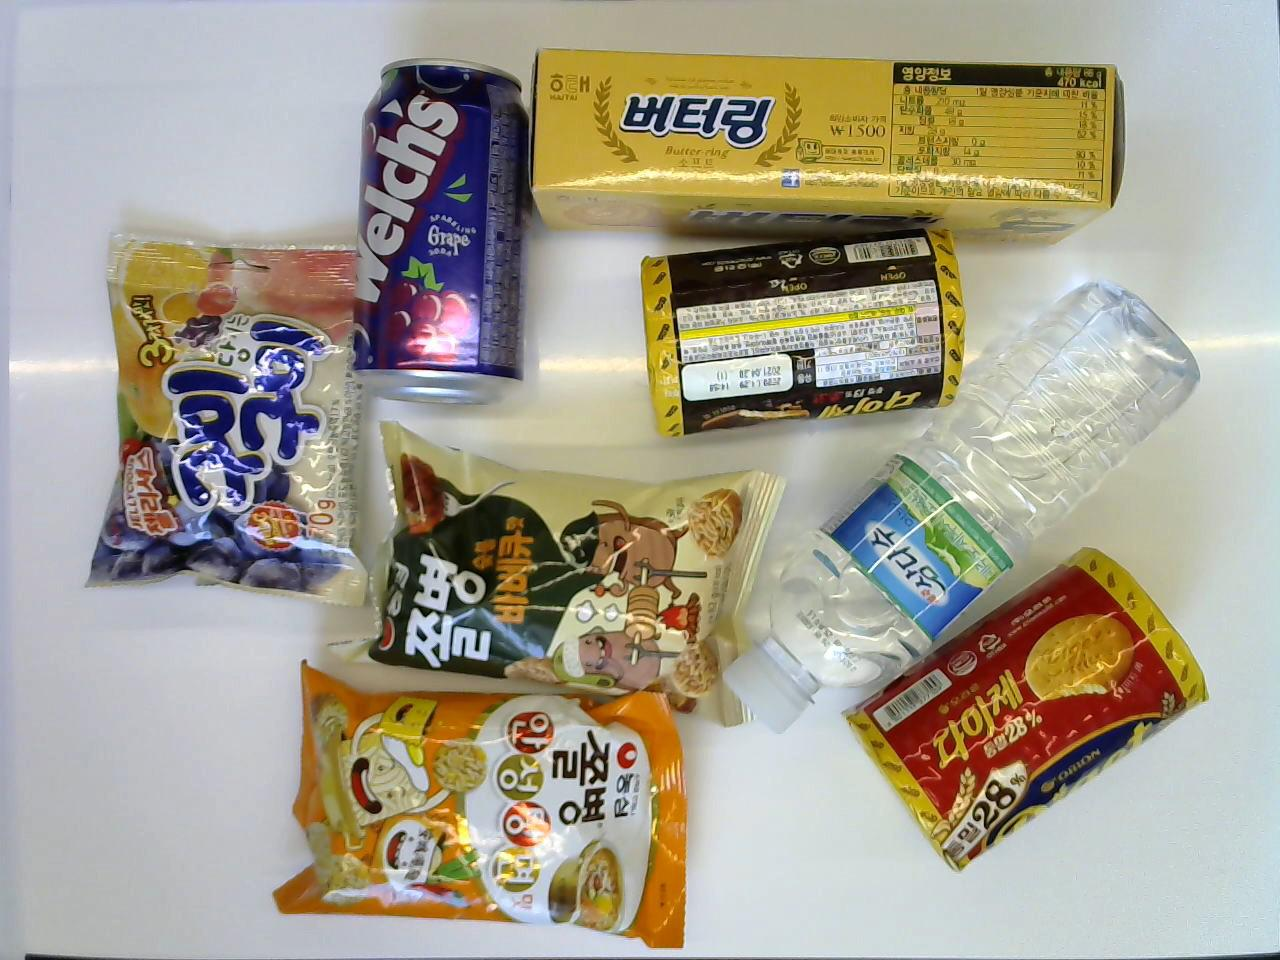buttering: (520, 29, 1136, 239)
diget_choco: (637, 226, 979, 438)
diget_ori: (851, 545, 1211, 872)
gumi_gumi: (79, 234, 390, 606)
jjolbyung_noodle: (271, 653, 691, 951)
jjolbyung_ori: (323, 415, 788, 730)
samdasu: (727, 277, 1205, 736)
welchs: (346, 54, 535, 411)
